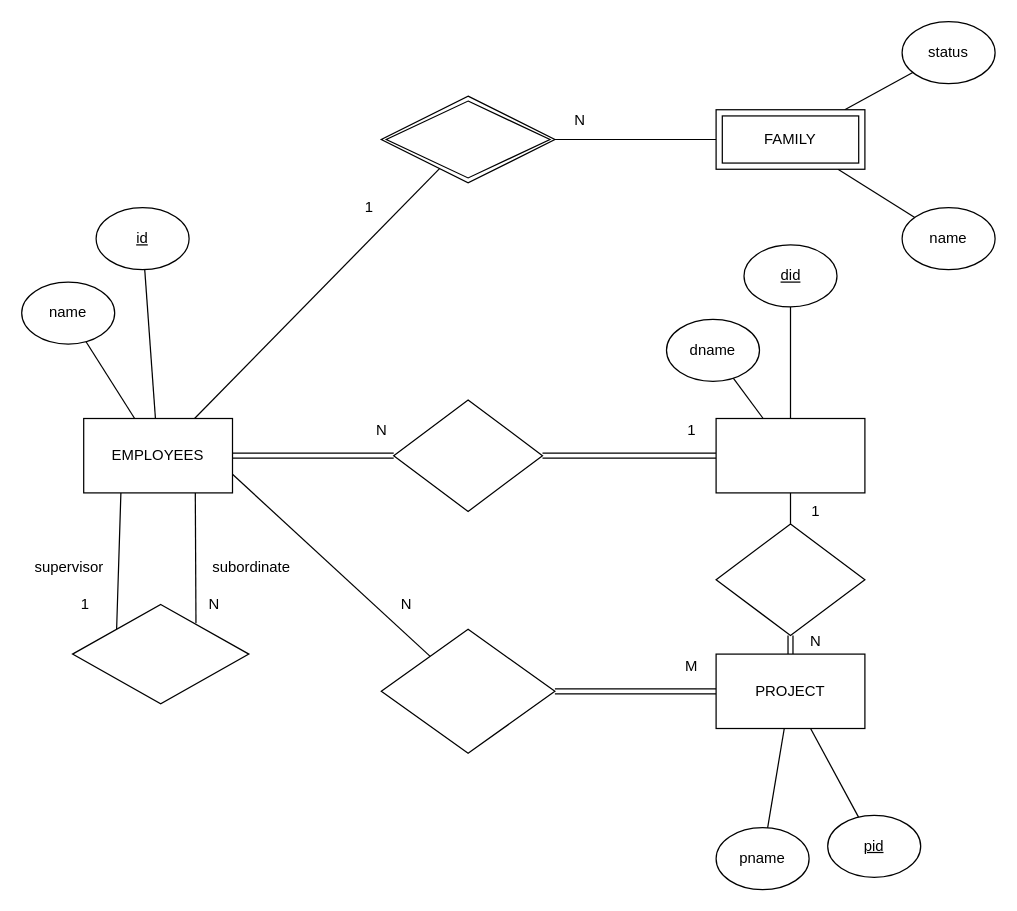
Some shapes in this 1017 by 911 pixel diagram are drawn without their labels. Here are the shapes that lost their labels. From the top down, the box of each, then its label:
(380, 95, 555, 183): BELONG
(392, 399, 542, 512): WORKS IN
(715, 417, 865, 493): DEPARTMENTS
(715, 523, 865, 636): IN
(71, 603, 249, 704): REPORTS_TO
(380, 628, 555, 753): MANAGE
